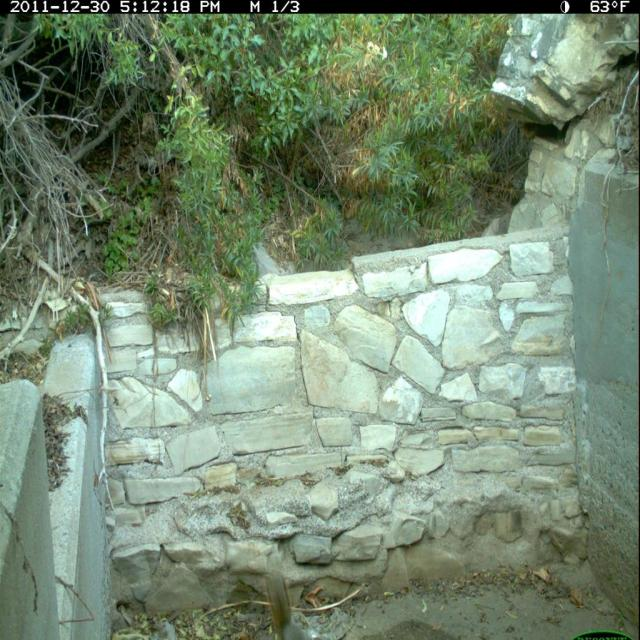squirrel: (260, 566, 321, 640)
